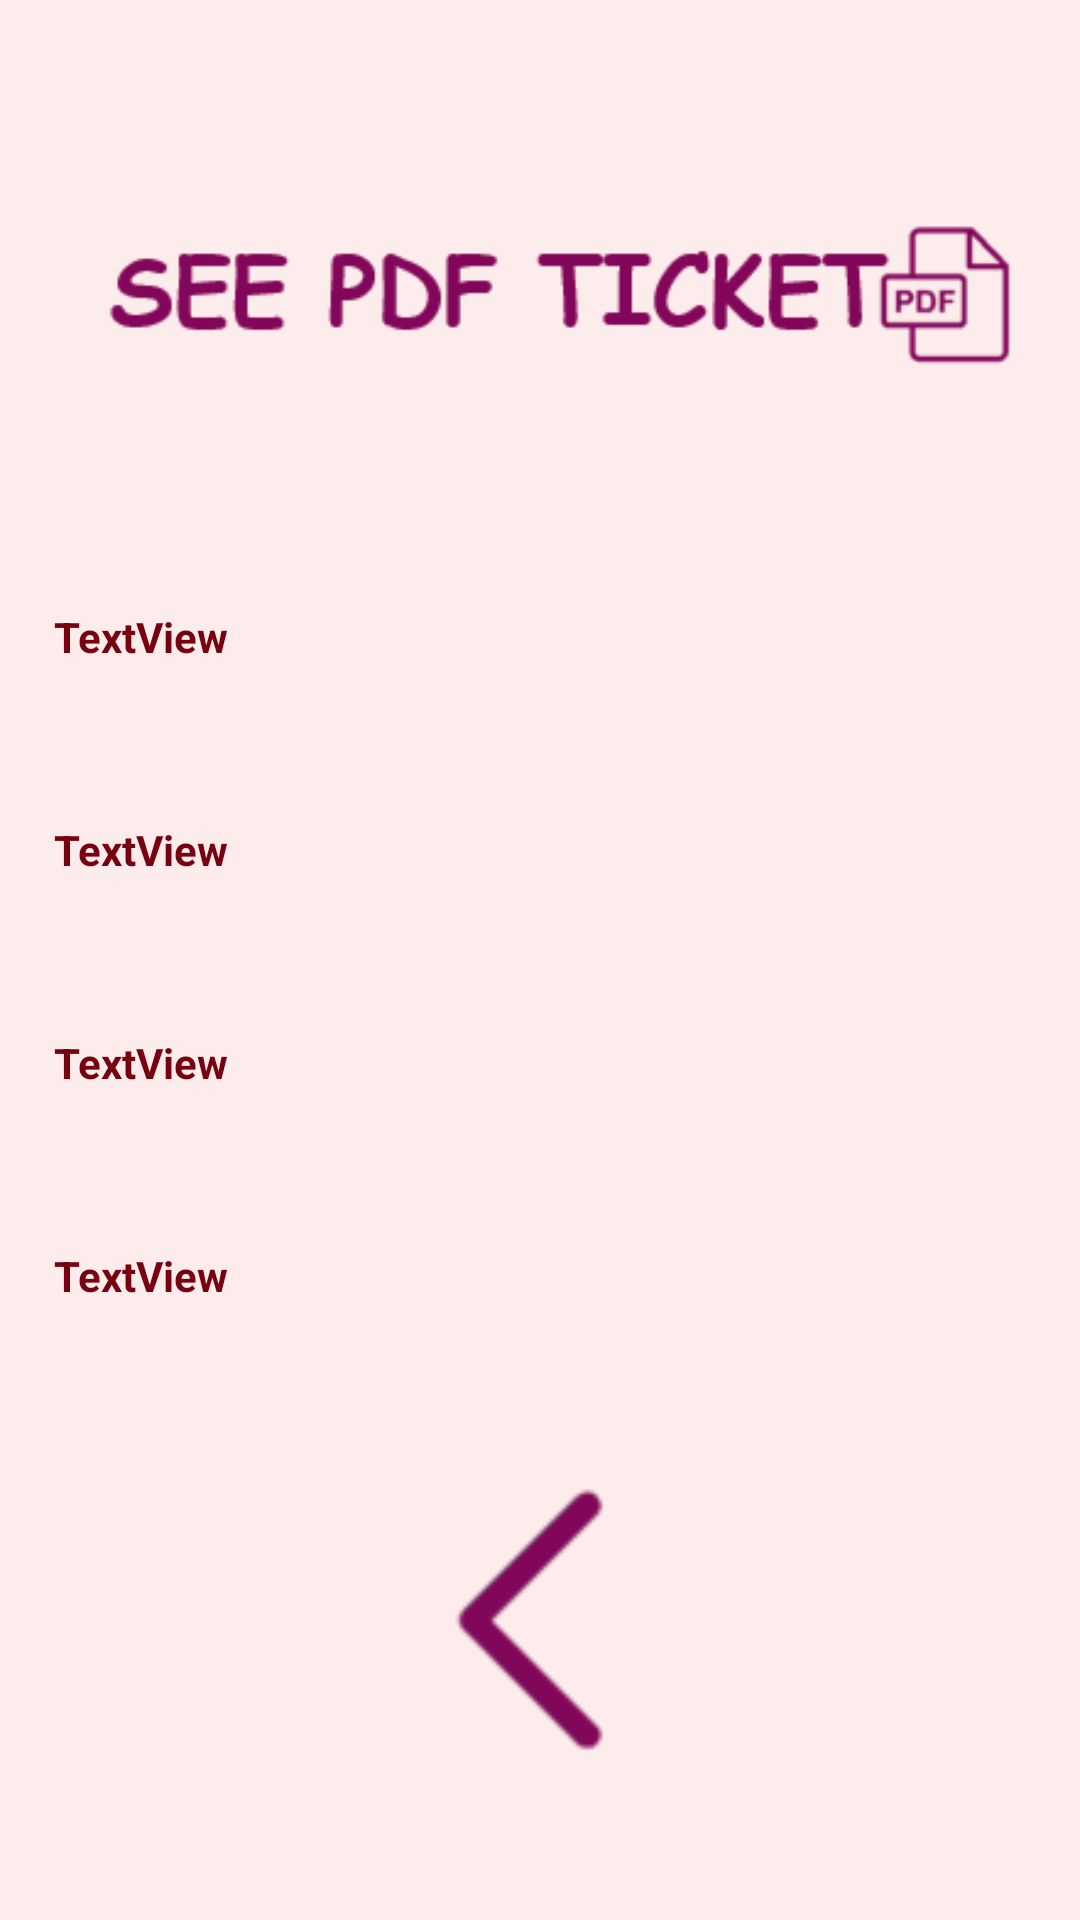

Screen size 1080w x 1920h. Icon name, then its box in pixels as box(x1, y1, x2, y2):
back: box(456, 1489, 603, 1750)
